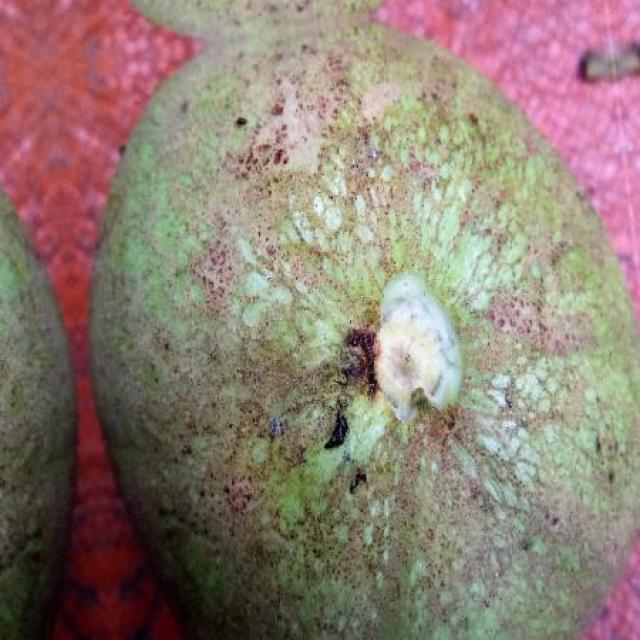Scab: (94, 22, 640, 639)
